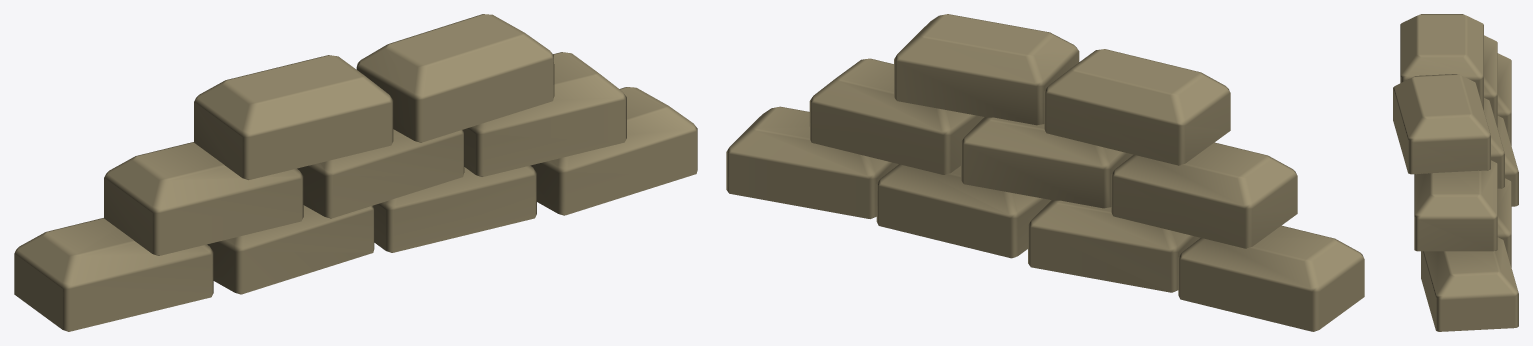
Rendered from sandbag_wall.glb.
The picture shows the model from 3 angles, left to right: view 1: azimuth 30°, elevation 25°; view 2: azimuth 150°, elevation 25°; view 3: azimuth 270°, elevation 25°; orthographic projection. The views are drawn at different scales.
Parts seen in each view (by area): view 1: Body; view 2: Body; view 3: Body.
Boxes of the visible parts, left/top/right/bottom form: Body: left=14, top=14, right=697, bottom=331; Body: left=726, top=14, right=1364, bottom=331; Body: left=1393, top=14, right=1518, bottom=331.
Bounding box in the file's own units: 2.46 × 0.7 × 0.5422.
